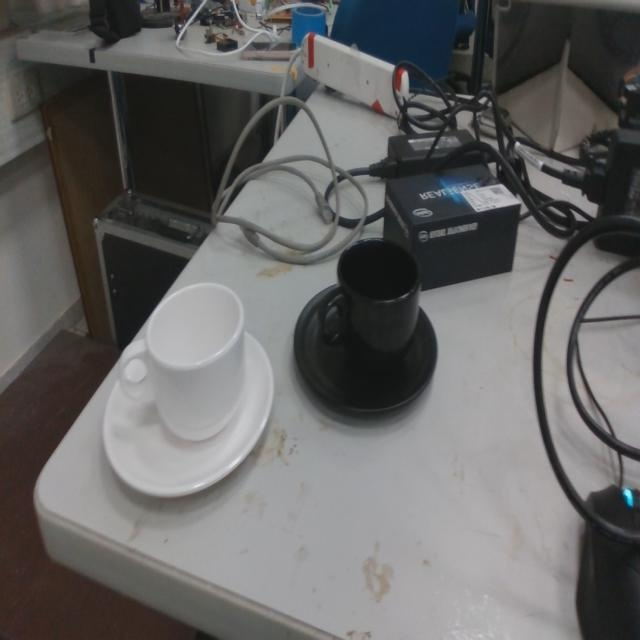black: (293, 235, 439, 424)
white: (100, 278, 276, 503)
